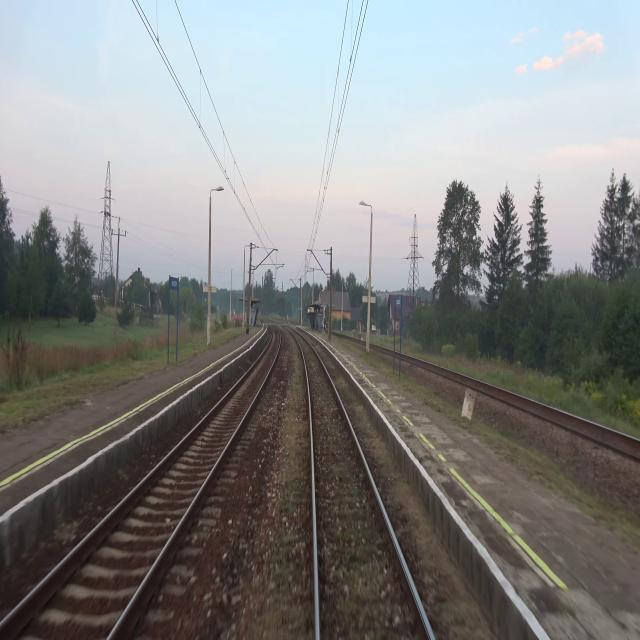rail-track: (0, 327, 278, 639), (295, 333, 429, 639), (437, 369, 640, 453)
